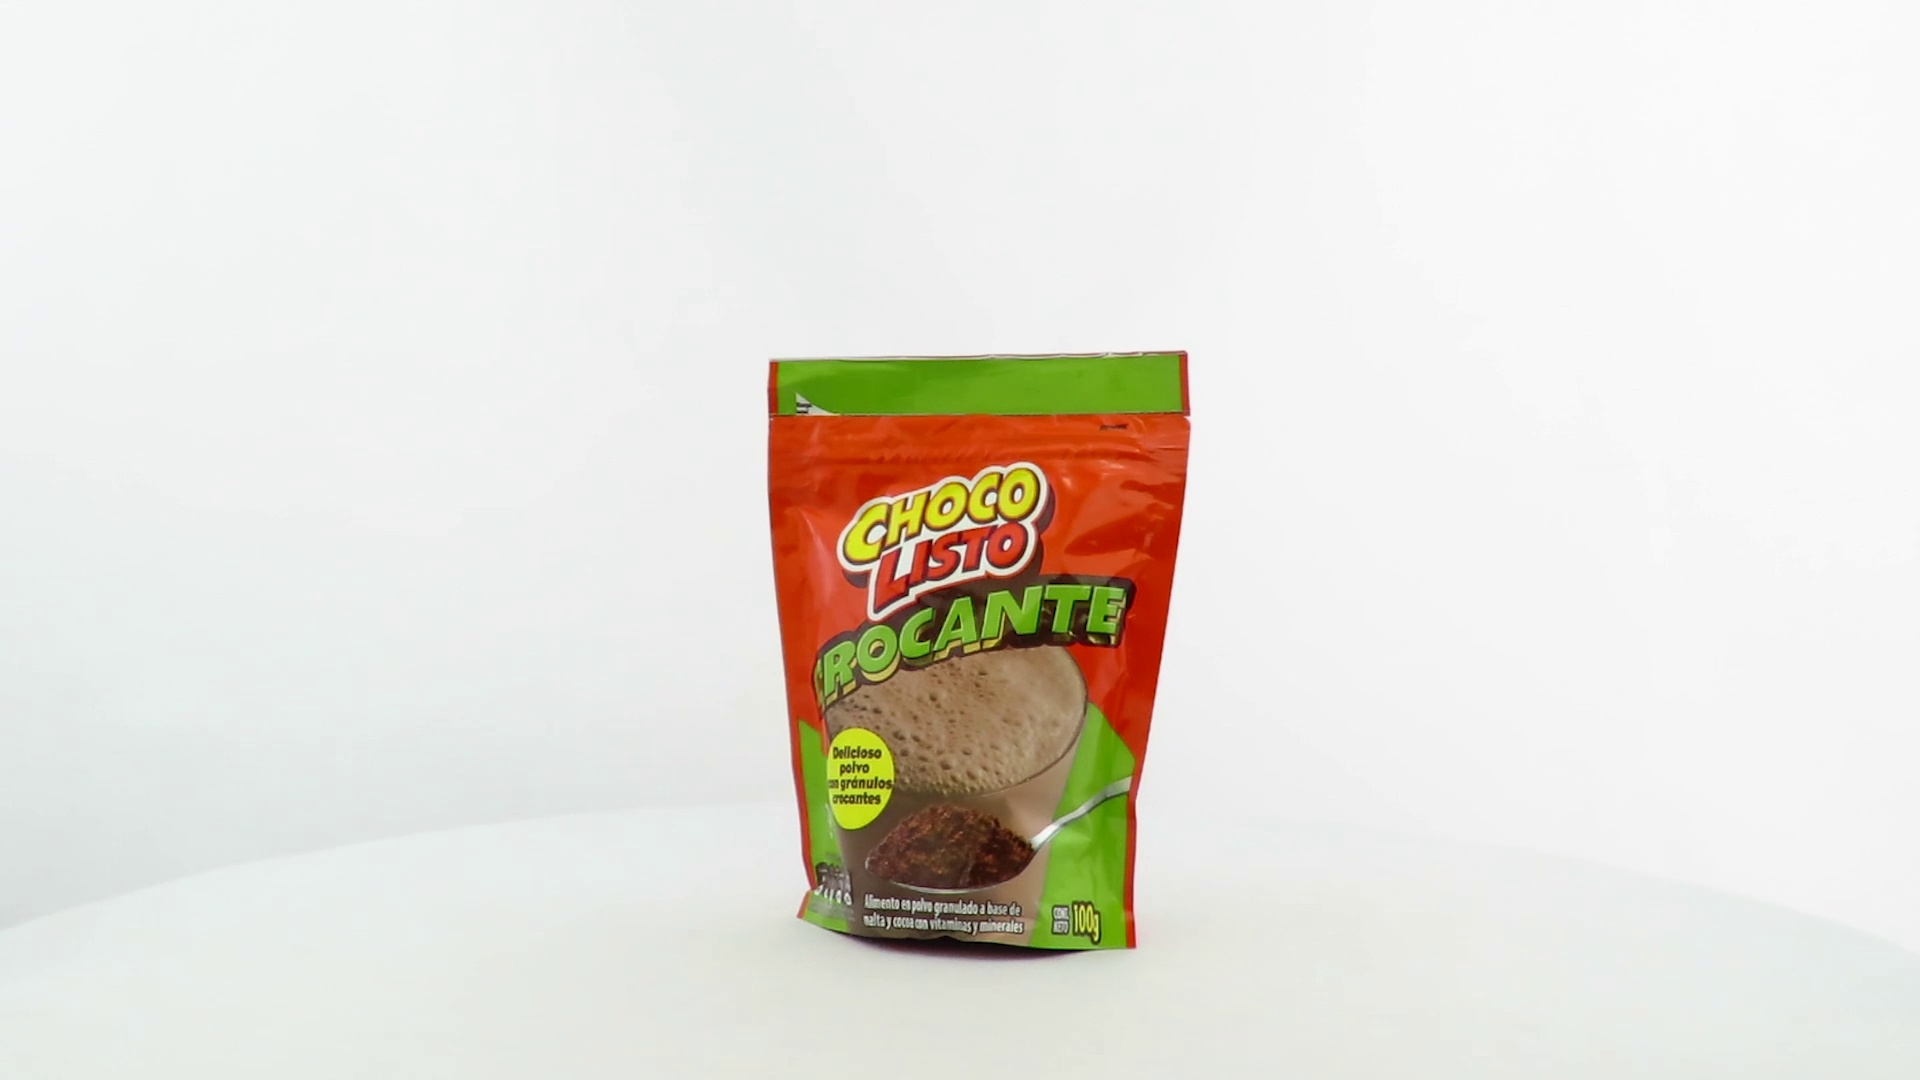COL0170102DYP10000: (762, 345, 1197, 967)
